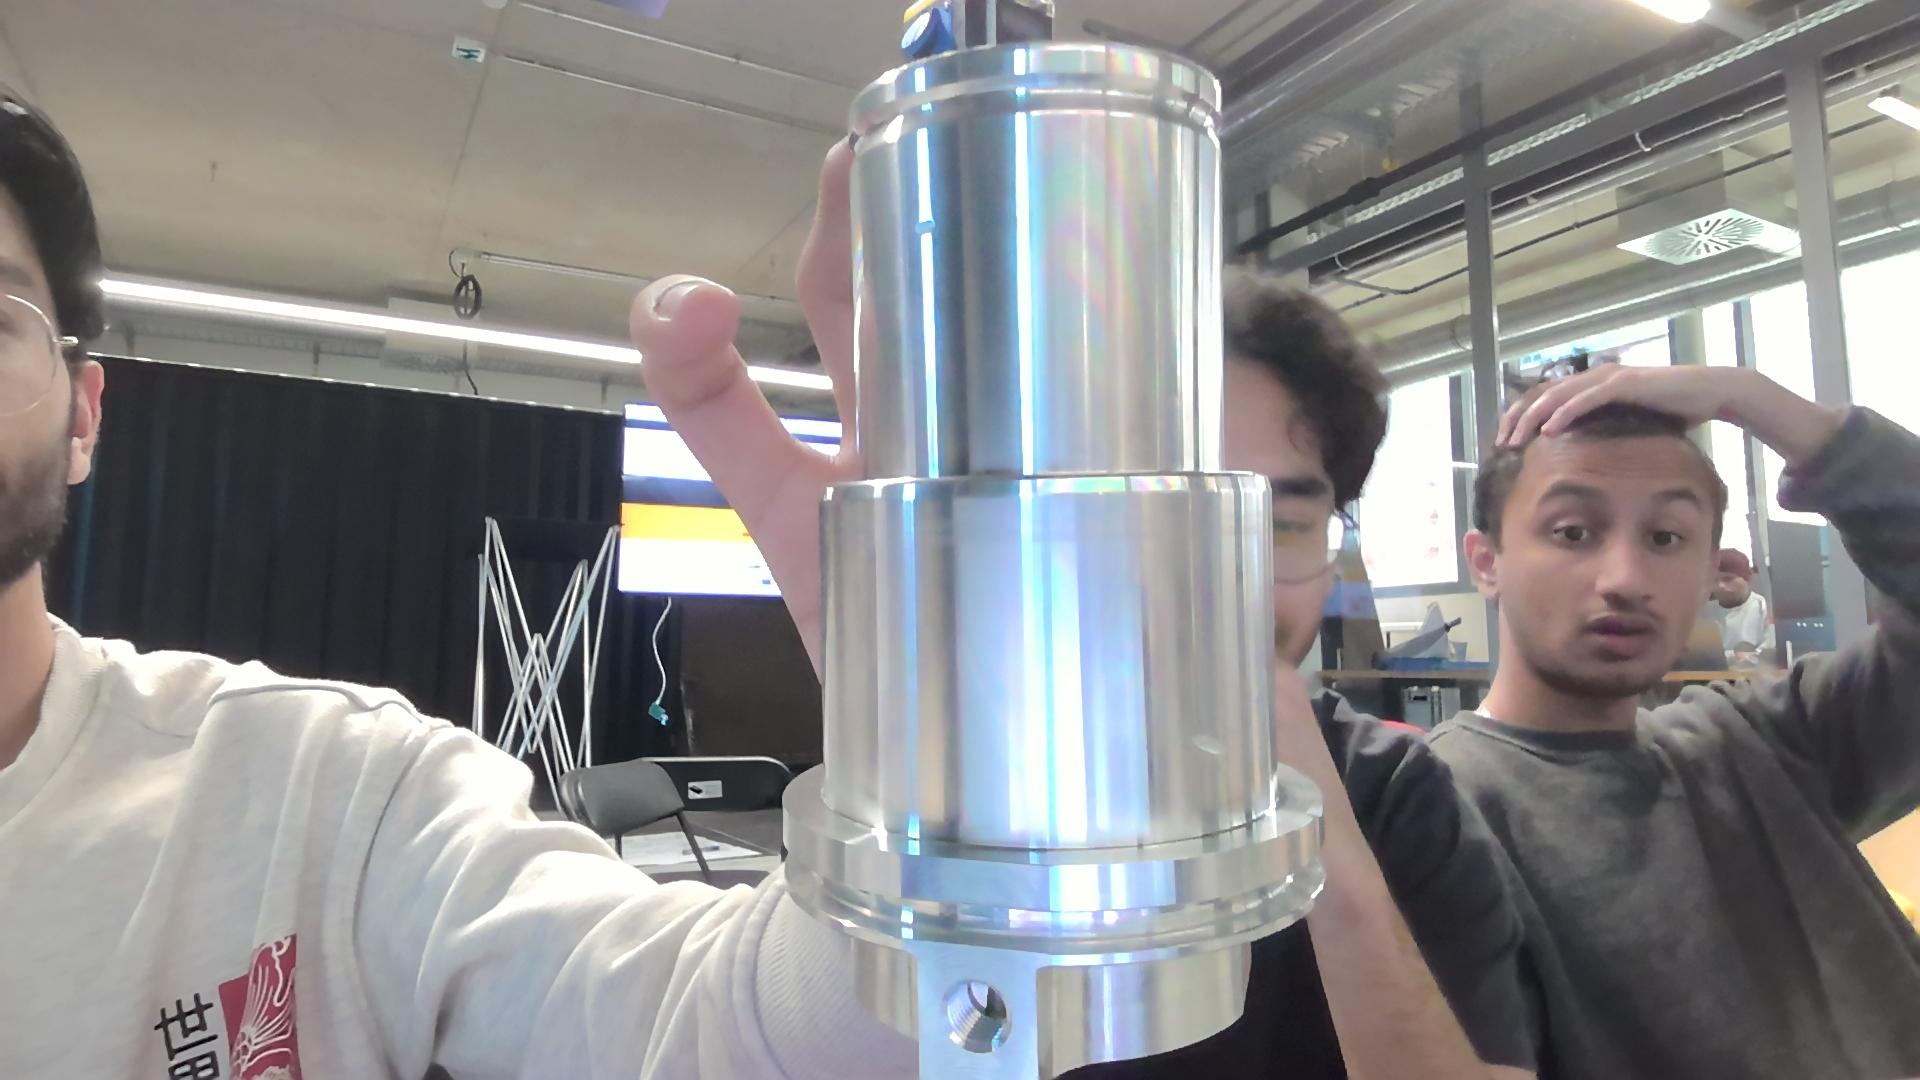objects: (798, 34, 1308, 1079)
